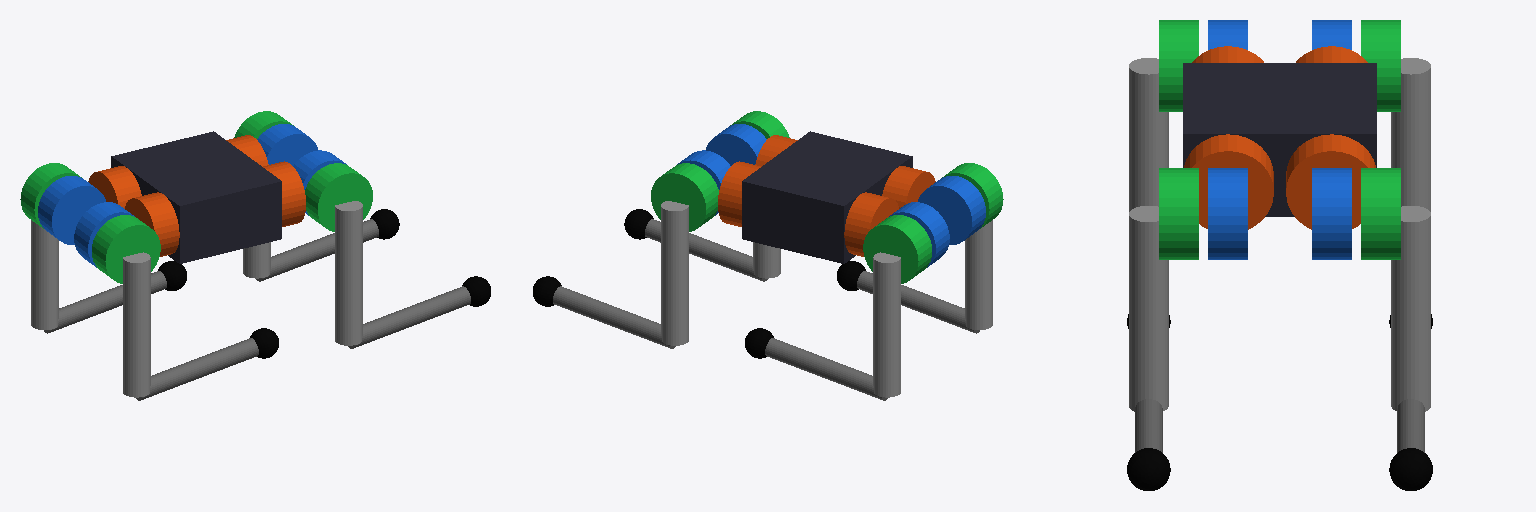
URDF robot description (quadruped):
<?xml version="1.0" ?>
<robot name="quadruped">
  <link name="base_Link">
    <inertial>
      <origin xyz="0 0 0" rpy="0 0 0"/>
      <mass value="0.674397"/>
      <inertia ixx="0.002635000" ixy="0" ixz="0" iyy="0.002100000" iyz="0" izz="0.003783000"/>
    </inertial>
    <visual>
      <origin xyz="0 0 0" rpy="0 0 0"/>
      <geometry>
        <box size="0.170000 0.196000 0.092000"/>
      </geometry>
      <material name="trunk">
        <color rgba="0.20 0.20 0.25 1"/>
      </material>
    </visual>
    <collision>
      <origin xyz="0 0 0" rpy="0 0 0"/>
      <geometry>
        <box size="0.170000 0.196000 0.092000"/>
      </geometry>
    </collision>
  </link>
  <link name="abad_FR_actuator_Link">
    <inertial>
      <origin xyz="0 0 0" rpy="0 0 0"/>
      <mass value="1.028375"/>
      <inertia ixx="0.001088000" ixy="0" ixz="0" iyy="0.000681000" iyz="0" izz="0.000681000"/>
    </inertial>
    <visual>
      <origin xyz="0 0 0" rpy="0 1.5707963267948966 0"/>
      <geometry>
        <cylinder radius="0.046000" length="0.040000"/>
      </geometry>
      <material name="abad">
        <color rgba="0.85 0.35 0.10 1"/>
      </material>
    </visual>
    <collision>
      <origin xyz="0 0 0" rpy="0 1.5707963267948966 0"/>
      <geometry>
        <cylinder radius="0.046000" length="0.040000"/>
      </geometry>
    </collision>
  </link>
  <joint name="abad_FR_fixed_joint" type="fixed">
    <origin xyz="0.105000 -0.052000 0.000000" rpy="0 0 0"/>
    <parent link="base_Link"/>
    <child link="abad_FR_actuator_Link"/>
  </joint>
  <link name="hip_FR_actuator_Link">
    <inertial>
      <origin xyz="0 0 0" rpy="0 0 0"/>
      <mass value="1.028375"/>
      <inertia ixx="0.000681000" ixy="0" ixz="0" iyy="0.001088000" iyz="0" izz="0.000681000"/>
    </inertial>
    <visual>
      <origin xyz="0 0 0" rpy="1.5707963267948966 0 0"/>
      <geometry>
        <cylinder radius="0.046000" length="0.040000"/>
      </geometry>
      <material name="hip">
        <color rgba="0.15 0.45 0.85 1"/>
      </material>
    </visual>
    <collision>
      <origin xyz="0 0 0" rpy="1.5707963267948966 0 0"/>
      <geometry>
        <cylinder radius="0.046000" length="0.040000"/>
      </geometry>
    </collision>
  </link>
  <joint name="abad_FR_Joint" type="revolute">
    <origin xyz="0.071000 0.000000 0.000000" rpy="0 0 0"/>
    <parent link="abad_FR_actuator_Link"/>
    <child link="hip_FR_actuator_Link"/>
    <axis xyz="-1 0 0"/>
    <limit lower="-1.0" upper="1.0" effort="23.622511" velocity="30.0"/>
    <dynamics damping="0.0" friction="0.0"/>
  </joint>
  <link name="knee_FR_actuator_Link">
    <inertial>
      <origin xyz="0 0 0" rpy="0 0 0"/>
      <mass value="1.434746"/>
      <inertia ixx="0.000950000" ixy="0" ixz="0" iyy="0.001518000" iyz="0" izz="0.000950000"/>
    </inertial>
    <visual>
      <origin xyz="0 0 0" rpy="1.5707963267948966 0 0"/>
      <geometry>
        <cylinder radius="0.046000" length="0.040000"/>
      </geometry>
      <material name="knee">
        <color rgba="0.15 0.75 0.30 1"/>
      </material>
    </visual>
    <collision>
      <origin xyz="0 0 0" rpy="1.5707963267948966 0 0"/>
      <geometry>
        <cylinder radius="0.046000" length="0.040000"/>
      </geometry>
    </collision>
  </link>
  <joint name="hip_FR_Joint" type="revolute">
    <origin xyz="0.000000 -0.050000 0.000000" rpy="0 0 0"/>
    <parent link="hip_FR_actuator_Link"/>
    <child link="knee_FR_actuator_Link"/>
    <axis xyz="0 1 0"/>
    <limit lower="-1.2" upper="3.5" effort="23.622511" velocity="30.0"/>
    <dynamics damping="0.0" friction="0.0"/>
  </joint>
  <link name="hip_FR_thigh_Link">
    <inertial>
      <origin xyz="0 0 -0.106500" rpy="0 0 0"/>
      <mass value="0.187365"/>
      <inertia ixx="0.000727000" ixy="0" ixz="0" iyy="0.000727000" iyz="0" izz="0.000037000"/>
    </inertial>
    <visual>
      <origin xyz="0 0 -0.106500" rpy="0 0 0"/>
      <geometry>
        <cylinder radius="0.020000" length="0.213000"/>
      </geometry>
      <material name="thigh">
        <color rgba="0.6 0.6 0.6 1"/>
      </material>
    </visual>
    <collision>
      <origin xyz="0 0 -0.106500" rpy="0 0 0"/>
      <geometry>
        <cylinder radius="0.020000" length="0.213000"/>
      </geometry>
    </collision>
  </link>
  <joint name="hip_FR_thigh_joint" type="fixed">
    <origin xyz="0.000000 -0.030000 0.000000" rpy="0 0 0"/>
    <parent link="knee_FR_actuator_Link"/>
    <child link="hip_FR_thigh_Link"/>
  </joint>
  <link name="knee_FR_Link">
    <inertial>
      <origin xyz="0 0 -0.106500" rpy="0 0 0"/>
      <mass value="0.091809"/>
      <inertia ixx="0.000352000" ixy="0" ixz="0" iyy="0.000352000" iyz="0" izz="0.000009000"/>
    </inertial>
    <visual>
      <origin xyz="0 0 -0.106500" rpy="0 0 0"/>
      <geometry>
        <cylinder radius="0.014000" length="0.213000"/>
      </geometry>
      <material name="calf">
        <color rgba="0.45 0.45 0.45 1"/>
      </material>
    </visual>
    <collision>
      <origin xyz="0 0 -0.106500" rpy="0 0 0"/>
      <geometry>
        <cylinder radius="0.014000" length="0.213000"/>
      </geometry>
    </collision>
  </link>
  <joint name="knee_FR_Joint" type="revolute">
    <origin xyz="0.000000 0.000000 -0.213000" rpy="0 0 0"/>
    <parent link="hip_FR_thigh_Link"/>
    <child link="knee_FR_Link"/>
    <axis xyz="0 1 0"/>
    <limit lower="-2.9" upper="-0.5" effort="35.238" velocity="20.0"/>
    <dynamics damping="0.0" friction="0.0"/>
  </joint>
  <link name="foot_FR_Link">
    <inertial>
      <origin xyz="0 0 0" rpy="0 0 0"/>
      <mass value="0.020000"/>
      <inertia ixx="0.000004000" ixy="0" ixz="0" iyy="0.000004000" iyz="0" izz="0.000004000"/>
    </inertial>
    <visual>
      <origin xyz="0 0 0" rpy="0 0 0"/>
      <geometry>
        <sphere radius="0.022000"/>
      </geometry>
      <material name="foot">
        <color rgba="0.05 0.05 0.05 1"/>
      </material>
    </visual>
    <collision>
      <origin xyz="0 0 0" rpy="0 0 0"/>
      <geometry>
        <sphere radius="0.022000"/>
      </geometry>
    </collision>
  </link>
  <joint name="foot_FR_joint" type="fixed">
    <origin xyz="0.000000 0.000000 -0.213000" rpy="0 0 0"/>
    <parent link="knee_FR_Link"/>
    <child link="foot_FR_Link"/>
  </joint>
  <link name="abad_FL_actuator_Link">
    <inertial>
      <origin xyz="0 0 0" rpy="0 0 0"/>
      <mass value="1.028375"/>
      <inertia ixx="0.001088000" ixy="0" ixz="0" iyy="0.000681000" iyz="0" izz="0.000681000"/>
    </inertial>
    <visual>
      <origin xyz="0 0 0" rpy="0 1.5707963267948966 0"/>
      <geometry>
        <cylinder radius="0.046000" length="0.040000"/>
      </geometry>
      <material name="abad">
        <color rgba="0.85 0.35 0.10 1"/>
      </material>
    </visual>
    <collision>
      <origin xyz="0 0 0" rpy="0 1.5707963267948966 0"/>
      <geometry>
        <cylinder radius="0.046000" length="0.040000"/>
      </geometry>
    </collision>
  </link>
  <joint name="abad_FL_fixed_joint" type="fixed">
    <origin xyz="0.105000 0.052000 0.000000" rpy="0 0 0"/>
    <parent link="base_Link"/>
    <child link="abad_FL_actuator_Link"/>
  </joint>
  <link name="hip_FL_actuator_Link">
    <inertial>
      <origin xyz="0 0 0" rpy="0 0 0"/>
      <mass value="1.028375"/>
      <inertia ixx="0.000681000" ixy="0" ixz="0" iyy="0.001088000" iyz="0" izz="0.000681000"/>
    </inertial>
    <visual>
      <origin xyz="0 0 0" rpy="1.5707963267948966 0 0"/>
      <geometry>
        <cylinder radius="0.046000" length="0.040000"/>
      </geometry>
      <material name="hip">
        <color rgba="0.15 0.45 0.85 1"/>
      </material>
    </visual>
    <collision>
      <origin xyz="0 0 0" rpy="1.5707963267948966 0 0"/>
      <geometry>
        <cylinder radius="0.046000" length="0.040000"/>
      </geometry>
    </collision>
  </link>
  <joint name="abad_FL_Joint" type="revolute">
    <origin xyz="0.071000 0.000000 0.000000" rpy="0 0 0"/>
    <parent link="abad_FL_actuator_Link"/>
    <child link="hip_FL_actuator_Link"/>
    <axis xyz="1 0 0"/>
    <limit lower="-1.0" upper="1.0" effort="23.622511" velocity="30.0"/>
    <dynamics damping="0.0" friction="0.0"/>
  </joint>
  <link name="knee_FL_actuator_Link">
    <inertial>
      <origin xyz="0 0 0" rpy="0 0 0"/>
      <mass value="1.434746"/>
      <inertia ixx="0.000950000" ixy="0" ixz="0" iyy="0.001518000" iyz="0" izz="0.000950000"/>
    </inertial>
    <visual>
      <origin xyz="0 0 0" rpy="1.5707963267948966 0 0"/>
      <geometry>
        <cylinder radius="0.046000" length="0.040000"/>
      </geometry>
      <material name="knee">
        <color rgba="0.15 0.75 0.30 1"/>
      </material>
    </visual>
    <collision>
      <origin xyz="0 0 0" rpy="1.5707963267948966 0 0"/>
      <geometry>
        <cylinder radius="0.046000" length="0.040000"/>
      </geometry>
    </collision>
  </link>
  <joint name="hip_FL_Joint" type="revolute">
    <origin xyz="0.000000 0.050000 0.000000" rpy="0 0 0"/>
    <parent link="hip_FL_actuator_Link"/>
    <child link="knee_FL_actuator_Link"/>
    <axis xyz="0 1 0"/>
    <limit lower="-1.2" upper="3.5" effort="23.622511" velocity="30.0"/>
    <dynamics damping="0.0" friction="0.0"/>
  </joint>
  <link name="hip_FL_thigh_Link">
    <inertial>
      <origin xyz="0 0 -0.106500" rpy="0 0 0"/>
      <mass value="0.187365"/>
      <inertia ixx="0.000727000" ixy="0" ixz="0" iyy="0.000727000" iyz="0" izz="0.000037000"/>
    </inertial>
    <visual>
      <origin xyz="0 0 -0.106500" rpy="0 0 0"/>
      <geometry>
        <cylinder radius="0.020000" length="0.213000"/>
      </geometry>
      <material name="thigh">
        <color rgba="0.6 0.6 0.6 1"/>
      </material>
    </visual>
    <collision>
      <origin xyz="0 0 -0.106500" rpy="0 0 0"/>
      <geometry>
        <cylinder radius="0.020000" length="0.213000"/>
      </geometry>
    </collision>
  </link>
  <joint name="hip_FL_thigh_joint" type="fixed">
    <origin xyz="0.000000 0.030000 0.000000" rpy="0 0 0"/>
    <parent link="knee_FL_actuator_Link"/>
    <child link="hip_FL_thigh_Link"/>
  </joint>
  <link name="knee_FL_Link">
    <inertial>
      <origin xyz="0 0 -0.106500" rpy="0 0 0"/>
      <mass value="0.091809"/>
      <inertia ixx="0.000352000" ixy="0" ixz="0" iyy="0.000352000" iyz="0" izz="0.000009000"/>
    </inertial>
    <visual>
      <origin xyz="0 0 -0.106500" rpy="0 0 0"/>
      <geometry>
        <cylinder radius="0.014000" length="0.213000"/>
      </geometry>
      <material name="calf">
        <color rgba="0.45 0.45 0.45 1"/>
      </material>
    </visual>
    <collision>
      <origin xyz="0 0 -0.106500" rpy="0 0 0"/>
      <geometry>
        <cylinder radius="0.014000" length="0.213000"/>
      </geometry>
    </collision>
  </link>
  <joint name="knee_FL_Joint" type="revolute">
    <origin xyz="0.000000 0.000000 -0.213000" rpy="0 0 0"/>
    <parent link="hip_FL_thigh_Link"/>
    <child link="knee_FL_Link"/>
    <axis xyz="0 1 0"/>
    <limit lower="-2.9" upper="-0.5" effort="35.238" velocity="20.0"/>
    <dynamics damping="0.0" friction="0.0"/>
  </joint>
  <link name="foot_FL_Link">
    <inertial>
      <origin xyz="0 0 0" rpy="0 0 0"/>
      <mass value="0.020000"/>
      <inertia ixx="0.000004000" ixy="0" ixz="0" iyy="0.000004000" iyz="0" izz="0.000004000"/>
    </inertial>
    <visual>
      <origin xyz="0 0 0" rpy="0 0 0"/>
      <geometry>
        <sphere radius="0.022000"/>
      </geometry>
      <material name="foot">
        <color rgba="0.05 0.05 0.05 1"/>
      </material>
    </visual>
    <collision>
      <origin xyz="0 0 0" rpy="0 0 0"/>
      <geometry>
        <sphere radius="0.022000"/>
      </geometry>
    </collision>
  </link>
  <joint name="foot_FL_joint" type="fixed">
    <origin xyz="0.000000 0.000000 -0.213000" rpy="0 0 0"/>
    <parent link="knee_FL_Link"/>
    <child link="foot_FL_Link"/>
  </joint>
  <link name="abad_RR_actuator_Link">
    <inertial>
      <origin xyz="0 0 0" rpy="0 0 0"/>
      <mass value="1.028375"/>
      <inertia ixx="0.001088000" ixy="0" ixz="0" iyy="0.000681000" iyz="0" izz="0.000681000"/>
    </inertial>
    <visual>
      <origin xyz="0 0 0" rpy="0 1.5707963267948966 0"/>
      <geometry>
        <cylinder radius="0.046000" length="0.040000"/>
      </geometry>
      <material name="abad">
        <color rgba="0.85 0.35 0.10 1"/>
      </material>
    </visual>
    <collision>
      <origin xyz="0 0 0" rpy="0 1.5707963267948966 0"/>
      <geometry>
        <cylinder radius="0.046000" length="0.040000"/>
      </geometry>
    </collision>
  </link>
  <joint name="abad_RR_fixed_joint" type="fixed">
    <origin xyz="-0.105000 -0.052000 0.000000" rpy="0 0 0"/>
    <parent link="base_Link"/>
    <child link="abad_RR_actuator_Link"/>
  </joint>
  <link name="hip_RR_actuator_Link">
    <inertial>
      <origin xyz="0 0 0" rpy="0 0 0"/>
      <mass value="1.028375"/>
      <inertia ixx="0.000681000" ixy="0" ixz="0" iyy="0.001088000" iyz="0" izz="0.000681000"/>
    </inertial>
    <visual>
      <origin xyz="0 0 0" rpy="1.5707963267948966 0 0"/>
      <geometry>
        <cylinder radius="0.046000" length="0.040000"/>
      </geometry>
      <material name="hip">
        <color rgba="0.15 0.45 0.85 1"/>
      </material>
    </visual>
    <collision>
      <origin xyz="0 0 0" rpy="1.5707963267948966 0 0"/>
      <geometry>
        <cylinder radius="0.046000" length="0.040000"/>
      </geometry>
    </collision>
  </link>
  <joint name="abad_RR_Joint" type="revolute">
    <origin xyz="-0.071000 0.000000 0.000000" rpy="0 0 0"/>
    <parent link="abad_RR_actuator_Link"/>
    <child link="hip_RR_actuator_Link"/>
    <axis xyz="-1 0 0"/>
    <limit lower="-1.0" upper="1.0" effort="23.622511" velocity="30.0"/>
    <dynamics damping="0.0" friction="0.0"/>
  </joint>
  <link name="knee_RR_actuator_Link">
    <inertial>
      <origin xyz="0 0 0" rpy="0 0 0"/>
      <mass value="1.434746"/>
      <inertia ixx="0.000950000" ixy="0" ixz="0" iyy="0.001518000" iyz="0" izz="0.000950000"/>
    </inertial>
    <visual>
      <origin xyz="0 0 0" rpy="1.5707963267948966 0 0"/>
      <geometry>
        <cylinder radius="0.046000" length="0.040000"/>
      </geometry>
      <material name="knee">
        <color rgba="0.15 0.75 0.30 1"/>
      </material>
    </visual>
    <collision>
      <origin xyz="0 0 0" rpy="1.5707963267948966 0 0"/>
      <geometry>
        <cylinder radius="0.046000" length="0.040000"/>
      </geometry>
    </collision>
  </link>
  <joint name="hip_RR_Joint" type="revolute">
    <origin xyz="0.000000 -0.050000 0.000000" rpy="0 0 0"/>
    <parent link="hip_RR_actuator_Link"/>
    <child link="knee_RR_actuator_Link"/>
    <axis xyz="0 1 0"/>
    <limit lower="-1.2" upper="3.5" effort="23.622511" velocity="30.0"/>
    <dynamics damping="0.0" friction="0.0"/>
  </joint>
  <link name="hip_RR_thigh_Link">
    <inertial>
      <origin xyz="0 0 -0.106500" rpy="0 0 0"/>
      <mass value="0.187365"/>
      <inertia ixx="0.000727000" ixy="0" ixz="0" iyy="0.000727000" iyz="0" izz="0.000037000"/>
    </inertial>
    <visual>
      <origin xyz="0 0 -0.106500" rpy="0 0 0"/>
      <geometry>
        <cylinder radius="0.020000" length="0.213000"/>
      </geometry>
      <material name="thigh">
        <color rgba="0.6 0.6 0.6 1"/>
      </material>
    </visual>
    <collision>
      <origin xyz="0 0 -0.106500" rpy="0 0 0"/>
      <geometry>
        <cylinder radius="0.020000" length="0.213000"/>
      </geometry>
    </collision>
  </link>
  <joint name="hip_RR_thigh_joint" type="fixed">
    <origin xyz="0.000000 -0.030000 0.000000" rpy="0 0 0"/>
    <parent link="knee_RR_actuator_Link"/>
    <child link="hip_RR_thigh_Link"/>
  </joint>
  <link name="knee_RR_Link">
    <inertial>
      <origin xyz="0 0 -0.106500" rpy="0 0 0"/>
      <mass value="0.091809"/>
      <inertia ixx="0.000352000" ixy="0" ixz="0" iyy="0.000352000" iyz="0" izz="0.000009000"/>
    </inertial>
    <visual>
      <origin xyz="0 0 -0.106500" rpy="0 0 0"/>
      <geometry>
        <cylinder radius="0.014000" length="0.213000"/>
      </geometry>
      <material name="calf">
        <color rgba="0.45 0.45 0.45 1"/>
      </material>
    </visual>
    <collision>
      <origin xyz="0 0 -0.106500" rpy="0 0 0"/>
      <geometry>
        <cylinder radius="0.014000" length="0.213000"/>
      </geometry>
    </collision>
  </link>
  <joint name="knee_RR_Joint" type="revolute">
    <origin xyz="0.000000 0.000000 -0.213000" rpy="0 0 0"/>
    <parent link="hip_RR_thigh_Link"/>
    <child link="knee_RR_Link"/>
    <axis xyz="0 1 0"/>
    <limit lower="-2.9" upper="-0.5" effort="35.238" velocity="20.0"/>
    <dynamics damping="0.0" friction="0.0"/>
  </joint>
  <link name="foot_RR_Link">
    <inertial>
      <origin xyz="0 0 0" rpy="0 0 0"/>
      <mass value="0.020000"/>
      <inertia ixx="0.000004000" ixy="0" ixz="0" iyy="0.000004000" iyz="0" izz="0.000004000"/>
    </inertial>
    <visual>
      <origin xyz="0 0 0" rpy="0 0 0"/>
      <geometry>
        <sphere radius="0.022000"/>
      </geometry>
      <material name="foot">
        <color rgba="0.05 0.05 0.05 1"/>
      </material>
    </visual>
    <collision>
      <origin xyz="0 0 0" rpy="0 0 0"/>
      <geometry>
        <sphere radius="0.022000"/>
      </geometry>
    </collision>
  </link>
  <joint name="foot_RR_joint" type="fixed">
    <origin xyz="0.000000 0.000000 -0.213000" rpy="0 0 0"/>
    <parent link="knee_RR_Link"/>
    <child link="foot_RR_Link"/>
  </joint>
  <link name="abad_RL_actuator_Link">
    <inertial>
      <origin xyz="0 0 0" rpy="0 0 0"/>
      <mass value="1.028375"/>
      <inertia ixx="0.001088000" ixy="0" ixz="0" iyy="0.000681000" iyz="0" izz="0.000681000"/>
    </inertial>
    <visual>
      <origin xyz="0 0 0" rpy="0 1.5707963267948966 0"/>
      <geometry>
        <cylinder radius="0.046000" length="0.040000"/>
      </geometry>
      <material name="abad">
        <color rgba="0.85 0.35 0.10 1"/>
      </material>
    </visual>
    <collision>
      <origin xyz="0 0 0" rpy="0 1.5707963267948966 0"/>
      <geometry>
        <cylinder radius="0.046000" length="0.040000"/>
      </geometry>
    </collision>
  </link>
  <joint name="abad_RL_fixed_joint" type="fixed">
    <origin xyz="-0.105000 0.052000 0.000000" rpy="0 0 0"/>
    <parent link="base_Link"/>
    <child link="abad_RL_actuator_Link"/>
  </joint>
  <link name="hip_RL_actuator_Link">
    <inertial>
      <origin xyz="0 0 0" rpy="0 0 0"/>
      <mass value="1.028375"/>
      <inertia ixx="0.000681000" ixy="0" ixz="0" iyy="0.001088000" iyz="0" izz="0.000681000"/>
    </inertial>
    <visual>
      <origin xyz="0 0 0" rpy="1.5707963267948966 0 0"/>
      <geometry>
        <cylinder radius="0.046000" length="0.040000"/>
      </geometry>
      <material name="hip">
        <color rgba="0.15 0.45 0.85 1"/>
      </material>
    </visual>
    <collision>
      <origin xyz="0 0 0" rpy="1.5707963267948966 0 0"/>
      <geometry>
        <cylinder radius="0.046000" length="0.040000"/>
      </geometry>
    </collision>
  </link>
  <joint name="abad_RL_Joint" type="revolute">
    <origin xyz="-0.071000 0.000000 0.000000" rpy="0 0 0"/>
    <parent link="abad_RL_actuator_Link"/>
    <child link="hip_RL_actuator_Link"/>
    <axis xyz="1 0 0"/>
    <limit lower="-1.0" upper="1.0" effort="23.622511" velocity="30.0"/>
    <dynamics damping="0.0" friction="0.0"/>
  </joint>
  <link name="knee_RL_actuator_Link">
    <inertial>
      <origin xyz="0 0 0" rpy="0 0 0"/>
      <mass value="1.434746"/>
      <inertia ixx="0.000950000" ixy="0" ixz="0" iyy="0.001518000" iyz="0" izz="0.000950000"/>
    </inertial>
    <visual>
      <origin xyz="0 0 0" rpy="1.5707963267948966 0 0"/>
      <geometry>
        <cylinder radius="0.046000" length="0.040000"/>
      </geometry>
      <material name="knee">
        <color rgba="0.15 0.75 0.30 1"/>
      </material>
    </visual>
    <collision>
      <origin xyz="0 0 0" rpy="1.5707963267948966 0 0"/>
      <geometry>
        <cylinder radius="0.046000" length="0.040000"/>
      </geometry>
    </collision>
  </link>
  <joint name="hip_RL_Joint" type="revolute">
    <origin xyz="0.000000 0.050000 0.000000" rpy="0 0 0"/>
    <parent link="hip_RL_actuator_Link"/>
    <child link="knee_RL_actuator_Link"/>
    <axis xyz="0 1 0"/>
    <limit lower="-1.2" upper="3.5" effort="23.622511" velocity="30.0"/>
    <dynamics damping="0.0" friction="0.0"/>
  </joint>
  <link name="hip_RL_thigh_Link">
    <inertial>
      <origin xyz="0 0 -0.106500" rpy="0 0 0"/>
      <mass value="0.187365"/>
      <inertia ixx="0.000727000" ixy="0" ixz="0" iyy="0.000727000" iyz="0" izz="0.000037000"/>
    </inertial>
    <visual>
      <origin xyz="0 0 -0.106500" rpy="0 0 0"/>
      <geometry>
        <cylinder radius="0.020000" length="0.213000"/>
      </geometry>
      <material name="thigh">
        <color rgba="0.6 0.6 0.6 1"/>
      </material>
    </visual>
    <collision>
      <origin xyz="0 0 -0.106500" rpy="0 0 0"/>
      <geometry>
        <cylinder radius="0.020000" length="0.213000"/>
      </geometry>
    </collision>
  </link>
  <joint name="hip_RL_thigh_joint" type="fixed">
    <origin xyz="0.000000 0.030000 0.000000" rpy="0 0 0"/>
    <parent link="knee_RL_actuator_Link"/>
    <child link="hip_RL_thigh_Link"/>
  </joint>
  <link name="knee_RL_Link">
    <inertial>
      <origin xyz="0 0 -0.106500" rpy="0 0 0"/>
      <mass value="0.091809"/>
      <inertia ixx="0.000352000" ixy="0" ixz="0" iyy="0.000352000" iyz="0" izz="0.000009000"/>
    </inertial>
    <visual>
      <origin xyz="0 0 -0.106500" rpy="0 0 0"/>
      <geometry>
        <cylinder radius="0.014000" length="0.213000"/>
      </geometry>
      <material name="calf">
        <color rgba="0.45 0.45 0.45 1"/>
      </material>
    </visual>
    <collision>
      <origin xyz="0 0 -0.106500" rpy="0 0 0"/>
      <geometry>
        <cylinder radius="0.014000" length="0.213000"/>
      </geometry>
    </collision>
  </link>
  <joint name="knee_RL_Joint" type="revolute">
    <origin xyz="0.000000 0.000000 -0.213000" rpy="0 0 0"/>
    <parent link="hip_RL_thigh_Link"/>
    <child link="knee_RL_Link"/>
    <axis xyz="0 1 0"/>
    <limit lower="-2.9" upper="-0.5" effort="35.238" velocity="20.0"/>
    <dynamics damping="0.0" friction="0.0"/>
  </joint>
  <link name="foot_RL_Link">
    <inertial>
      <origin xyz="0 0 0" rpy="0 0 0"/>
      <mass value="0.020000"/>
      <inertia ixx="0.000004000" ixy="0" ixz="0" iyy="0.000004000" iyz="0" izz="0.000004000"/>
    </inertial>
    <visual>
      <origin xyz="0 0 0" rpy="0 0 0"/>
      <geometry>
        <sphere radius="0.022000"/>
      </geometry>
      <material name="foot">
        <color rgba="0.05 0.05 0.05 1"/>
      </material>
    </visual>
    <collision>
      <origin xyz="0 0 0" rpy="0 0 0"/>
      <geometry>
        <sphere radius="0.022000"/>
      </geometry>
    </collision>
  </link>
  <joint name="foot_RL_joint" type="fixed">
    <origin xyz="0.000000 0.000000 -0.213000" rpy="0 0 0"/>
    <parent link="knee_RL_Link"/>
    <child link="foot_RL_Link"/>
  </joint>
</robot>

--- Facts derived from the render (not from the file) ---
Views: 3 orthographic renders of the robot side by side, from view 1: azimuth 30°, elevation 25°; view 2: azimuth 150°, elevation 25°; view 3: azimuth 270°, elevation 25°.
Robot: quadruped — 25 links, 24 joints (12 revolute, 12 fixed); root link base_Link; default pose: all joints at 0 but 4 set to mid-range because 0 is outside their limits (knee_FR_Joint = -1.7, knee_FL_Joint = -1.7, knee_RR_Joint = -1.7, knee_RL_Joint = -1.7).
Links seen in each view (by area): view 1: base_Link, hip_FR_thigh_Link, hip_RR_thigh_Link, knee_RR_actuator_Link, knee_FR_actuator_Link, hip_RL_actuator_Link, hip_RL_thigh_Link, knee_FR_Link, knee_RR_Link, abad_RR_actuator_Link, knee_RL_Link, knee_FL_Link (+13 smaller); view 2: base_Link, hip_FL_thigh_Link, hip_RL_thigh_Link, knee_RL_actuator_Link, knee_FL_actuator_Link, hip_RR_actuator_Link, hip_RR_thigh_Link, knee_FL_Link, knee_RL_Link, abad_RL_actuator_Link, knee_RR_Link, knee_FR_Link (+13 smaller); view 3: base_Link, hip_FR_thigh_Link, hip_FL_thigh_Link, hip_RR_thigh_Link, hip_RL_thigh_Link, abad_FR_actuator_Link, abad_FL_actuator_Link, hip_FR_actuator_Link, knee_FR_actuator_Link, hip_FL_actuator_Link, knee_FL_actuator_Link, knee_RR_actuator_Link (+9 smaller).
Link boxes in pixels (x1,y1,x2,y2): base_Link: (111, 131, 281, 263); hip_FR_thigh_Link: (335, 201, 362, 345); hip_RR_thigh_Link: (123, 252, 150, 397); knee_RR_actuator_Link: (92, 215, 160, 283); knee_FR_actuator_Link: (305, 163, 372, 231); hip_RL_actuator_Link: (38, 176, 105, 244); hip_RL_thigh_Link: (31, 220, 58, 329); knee_FR_Link: (348, 286, 470, 348); knee_RR_Link: (136, 338, 258, 400); abad_RR_actuator_Link: (125, 192, 179, 256); knee_RL_Link: (44, 271, 166, 333); knee_FL_Link: (256, 219, 378, 281); base_Link: (742, 131, 912, 263); hip_FL_thigh_Link: (661, 201, 688, 345); hip_RL_thigh_Link: (873, 252, 900, 397); knee_RL_actuator_Link: (863, 215, 931, 283); knee_FL_actuator_Link: (651, 163, 718, 231); hip_RR_actuator_Link: (918, 176, 985, 244); hip_RR_thigh_Link: (965, 220, 992, 329); knee_FL_Link: (553, 286, 675, 348); knee_RL_Link: (765, 338, 887, 400); abad_RL_actuator_Link: (844, 192, 898, 256); knee_RR_Link: (857, 271, 979, 333); knee_FR_Link: (645, 219, 767, 281); base_Link: (1183, 63, 1376, 216); hip_FR_thigh_Link: (1129, 206, 1168, 411); hip_FL_thigh_Link: (1391, 206, 1430, 411); hip_RR_thigh_Link: (1129, 58, 1168, 211); hip_RL_thigh_Link: (1391, 58, 1430, 211); abad_FR_actuator_Link: (1184, 134, 1273, 229); abad_FL_actuator_Link: (1286, 134, 1375, 229); hip_FR_actuator_Link: (1208, 168, 1247, 259); knee_FR_actuator_Link: (1159, 168, 1198, 259); hip_FL_actuator_Link: (1312, 168, 1351, 259); knee_FL_actuator_Link: (1361, 168, 1400, 259); knee_RR_actuator_Link: (1159, 20, 1198, 111).
Size in the robot's own frame: 0.6312 by 0.308 by 0.2729 metres.
Geometry: primitives only (box / cylinder / sphere), no mesh files.
